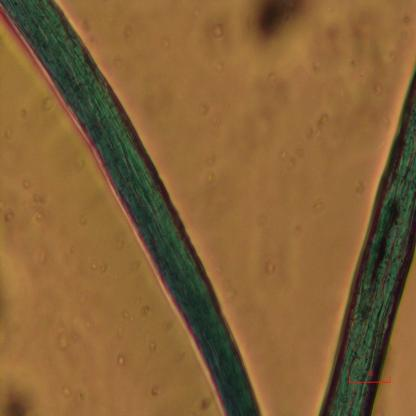Background material: (246, 75, 288, 153), (339, 11, 386, 72), (304, 12, 346, 70), (254, 1, 300, 45), (16, 176, 54, 227), (0, 374, 40, 415), (306, 113, 332, 146), (203, 18, 232, 46), (53, 327, 79, 356), (347, 172, 367, 200), (134, 298, 153, 320), (264, 254, 279, 280), (0, 206, 17, 226), (94, 260, 109, 281), (148, 381, 164, 399), (120, 22, 136, 40), (199, 393, 214, 412), (41, 96, 56, 113), (118, 345, 127, 370), (121, 313, 134, 327), (37, 255, 49, 269), (148, 340, 158, 351)
Microfibre: (0, 0, 259, 416), (320, 63, 416, 416)
